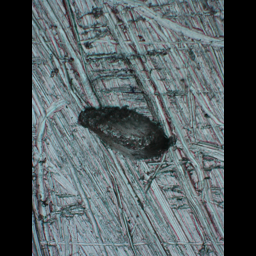d: (74, 101, 180, 161)
